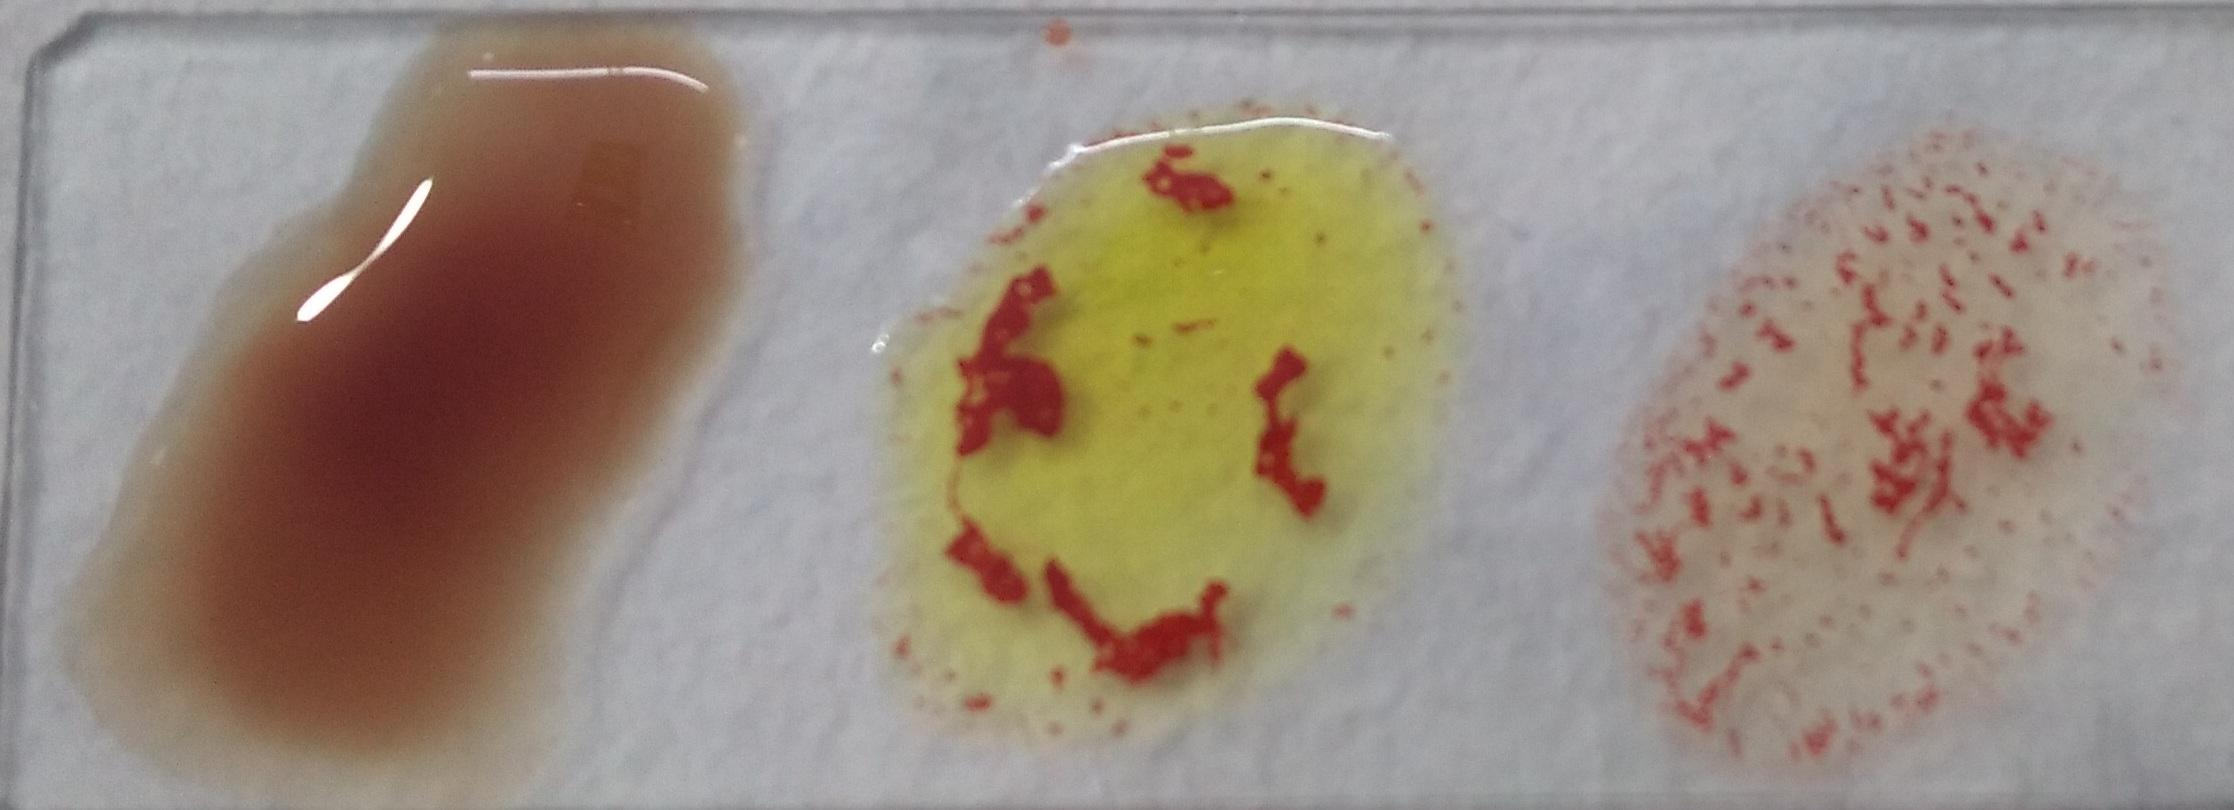B: (906, 110, 1456, 742)
D: (1614, 127, 2158, 789)
